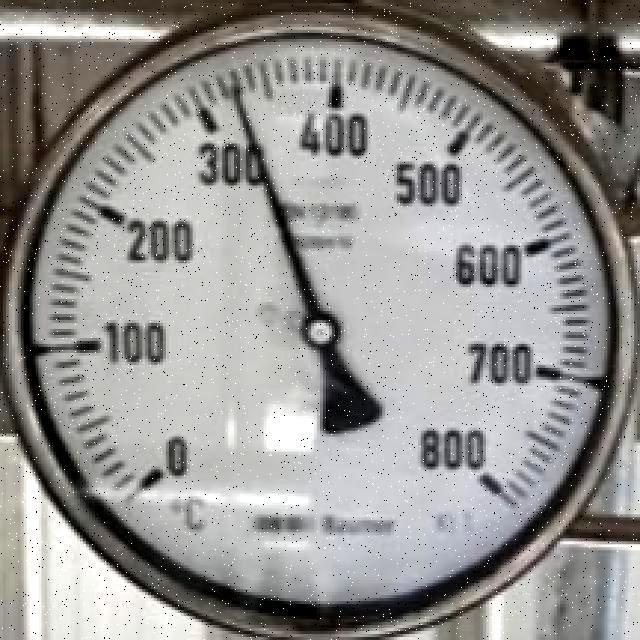Needle_Tip: (206, 66, 277, 134)
Needle_base: (291, 304, 353, 367)
max_value: (409, 422, 502, 481)
min_value: (152, 422, 200, 479)
